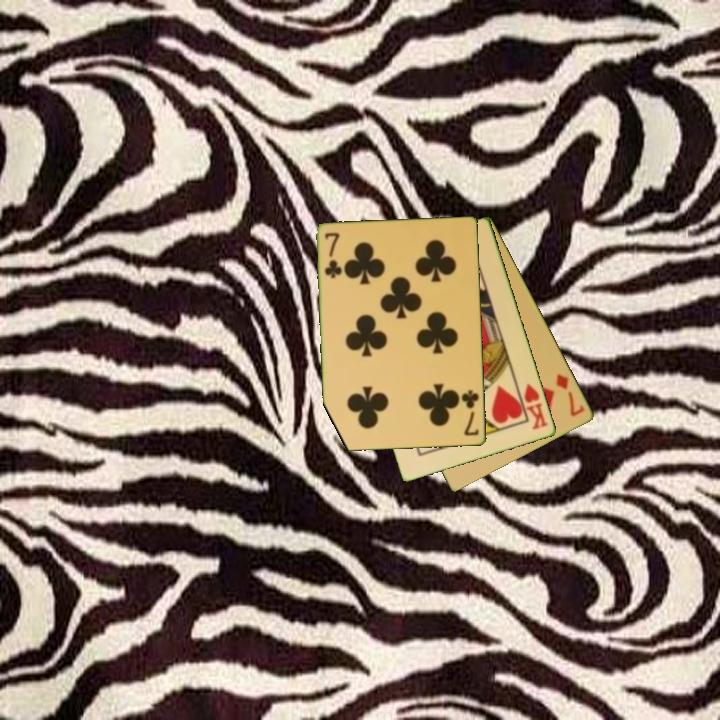7c: (458, 387, 482, 439), (321, 229, 344, 281)
7d: (553, 370, 588, 420)
Kh: (514, 380, 551, 433)
